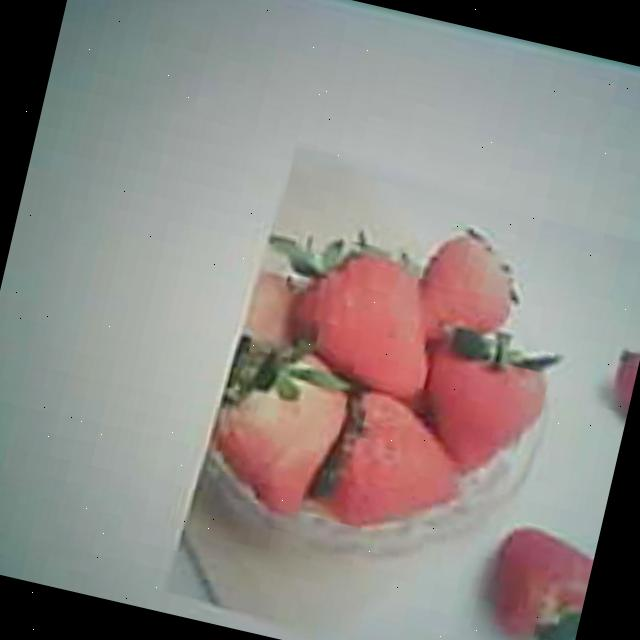strawberry: (201, 333, 352, 520), (300, 238, 446, 396), (324, 386, 469, 545), (405, 326, 546, 481), (484, 521, 596, 640)
